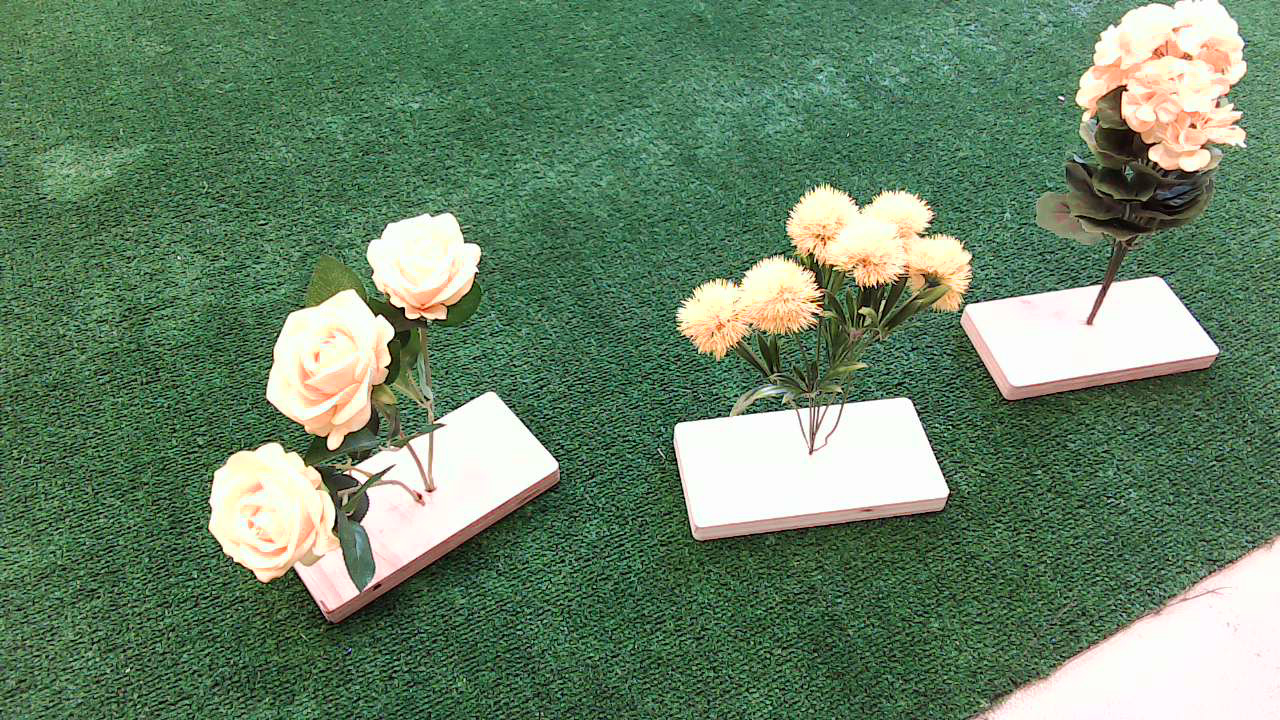dandelion: (645, 175, 1003, 373)
geranium: (1025, 3, 1269, 274)
rose: (178, 191, 523, 598)
